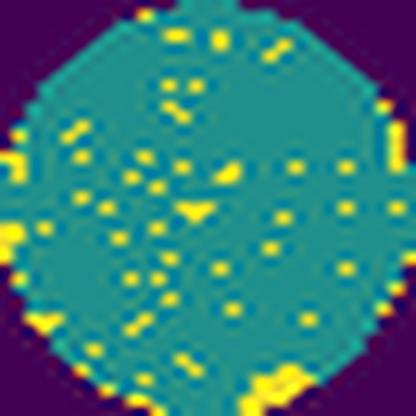Edge-Loc: (230, 355, 319, 416), (0, 224, 27, 263)
